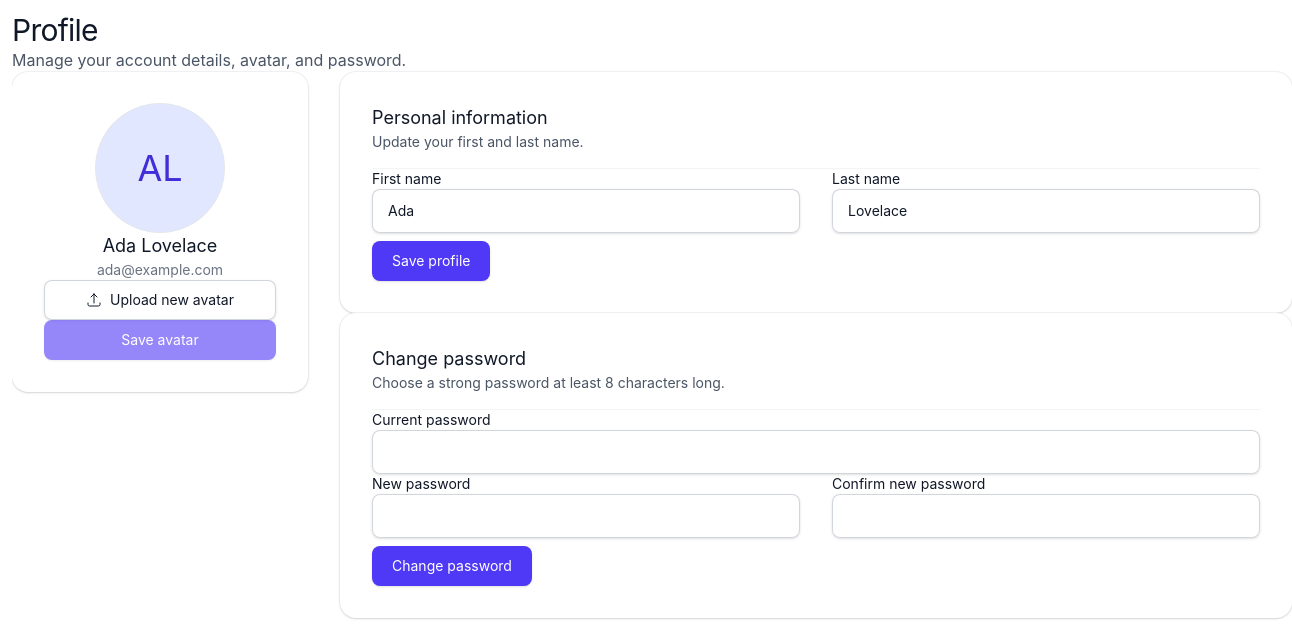
Test: ProfileView › submits trimmed profile updates and persists the returned user
This screenshot has width=1292, height=636.
Replace the text in the field with id "firstName" with " Updated ": (586, 211) 372,189 -> 800,233
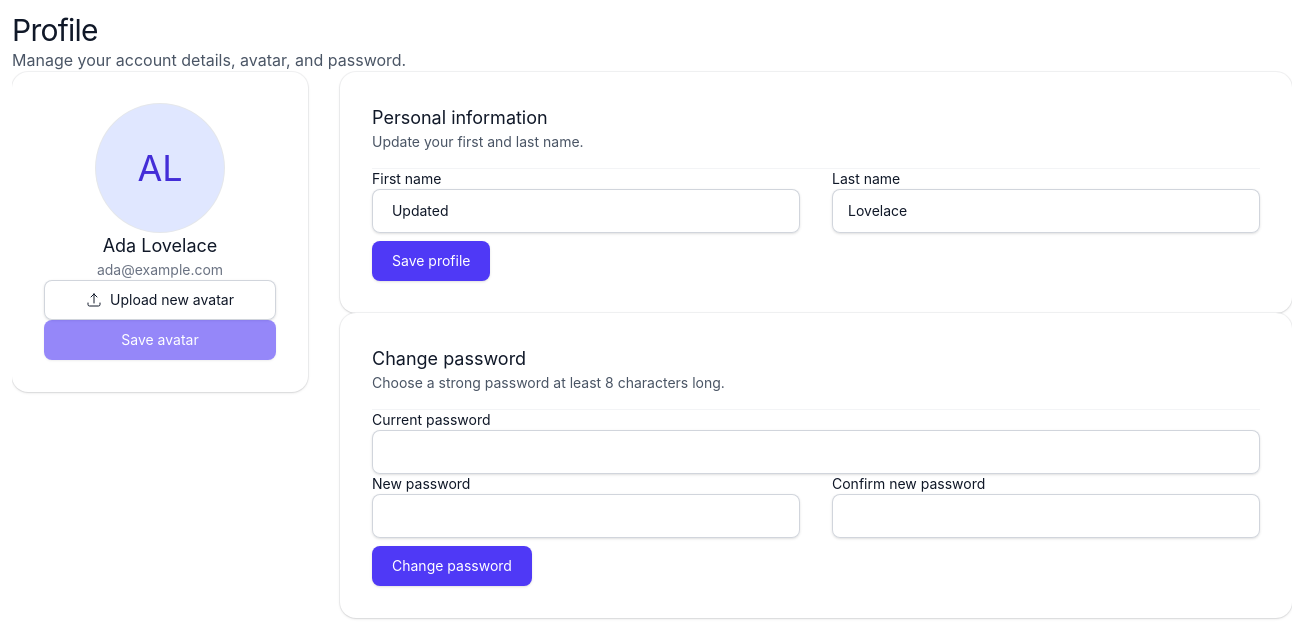
Replace the text in the field with id "lastName" with " Name ": (1046, 211) 832,189 -> 1260,233
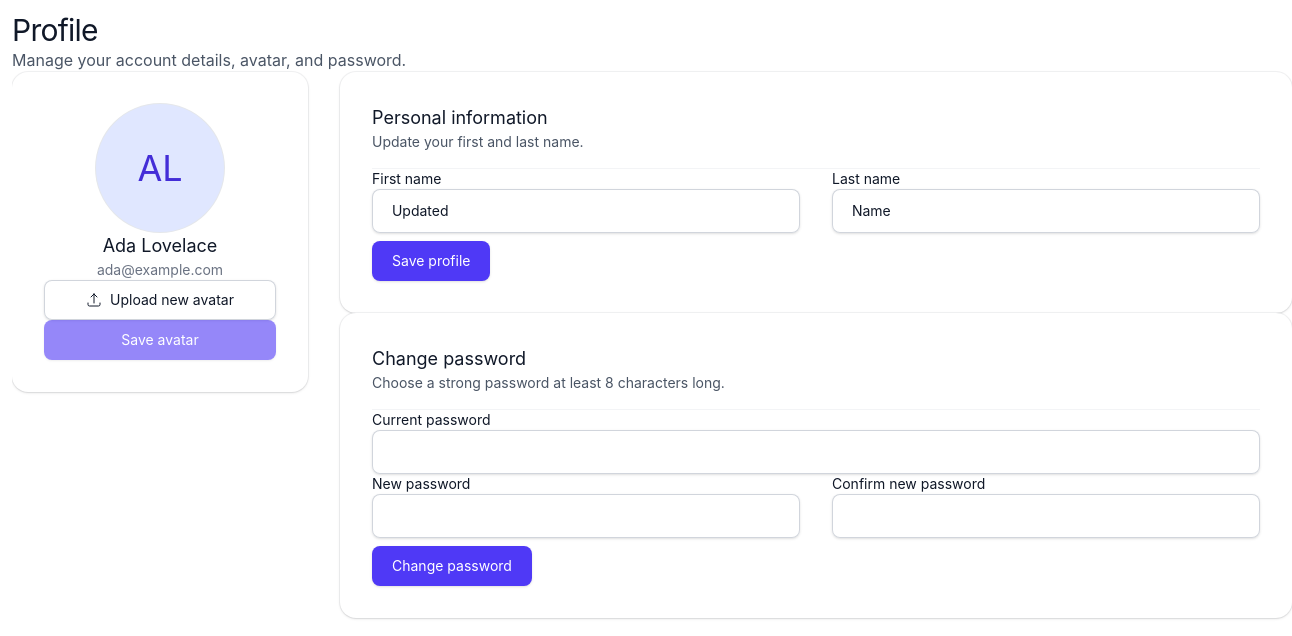
Submit the form "First name Last name Save profile", box 372,169 -> 1260,281
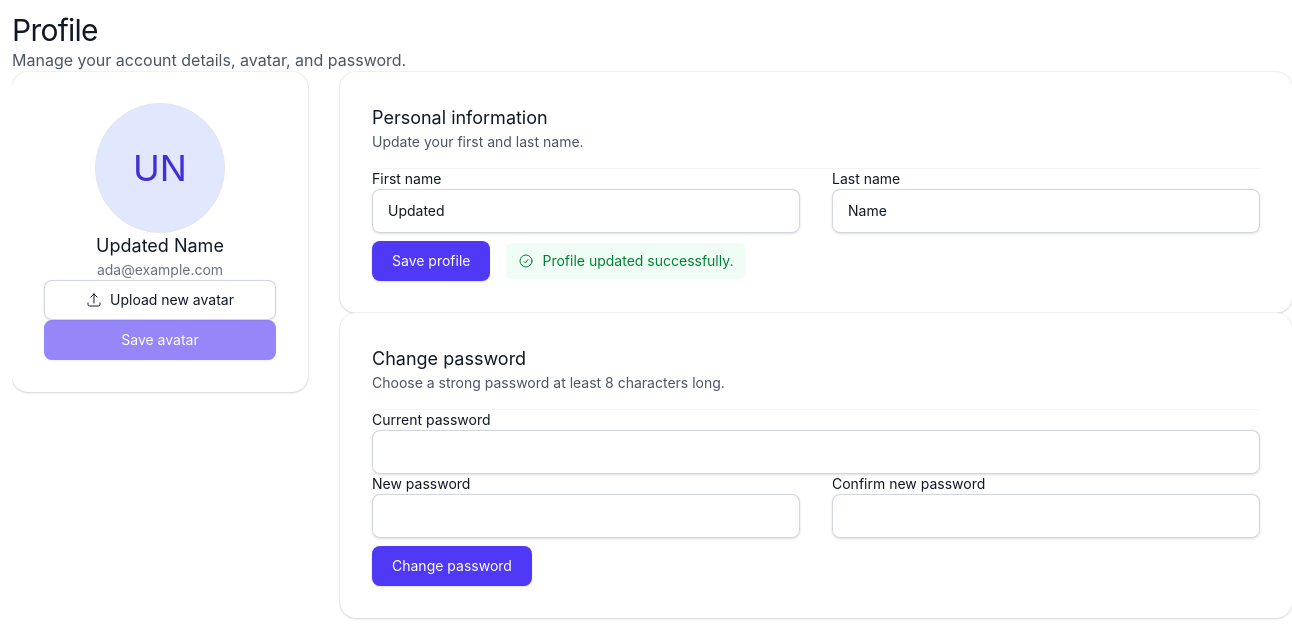
Result: the text "Profile updated successfully." is shown at 518,251 -> 734,271
